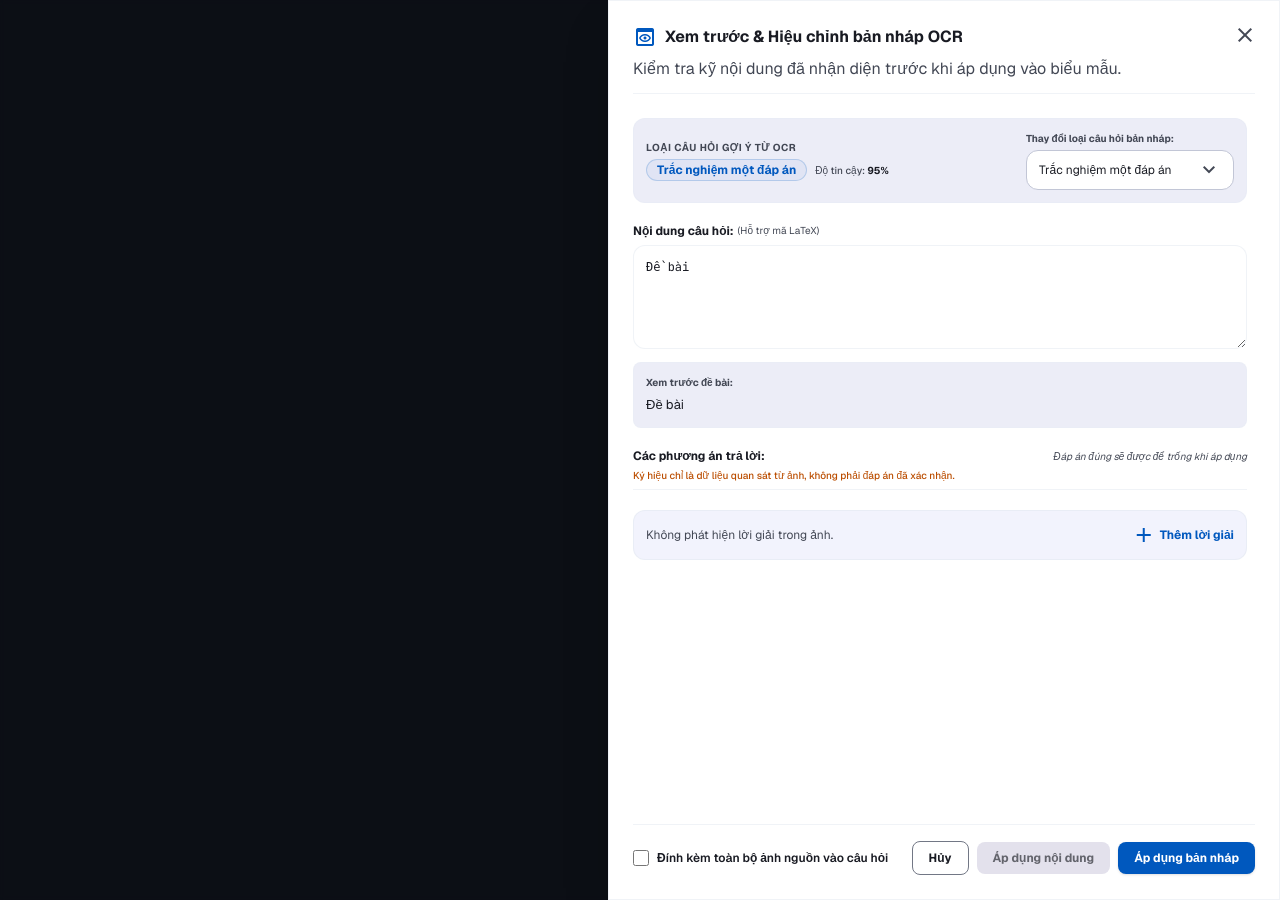
Test: QuestionOcrDraftReviewDialog - OCR Mark Untrusted Observations & Simplified Review › hides empty solution by default and reveals solution editor on "Thêm lời giải" click
expect the field with placeholder "Nhập hướng dẫn giải" is not shown: met
# Click "Thêm lời giải"
Click the button "Thêm lời giải". click: (1183, 535)
box: [1132,523,1234,547]
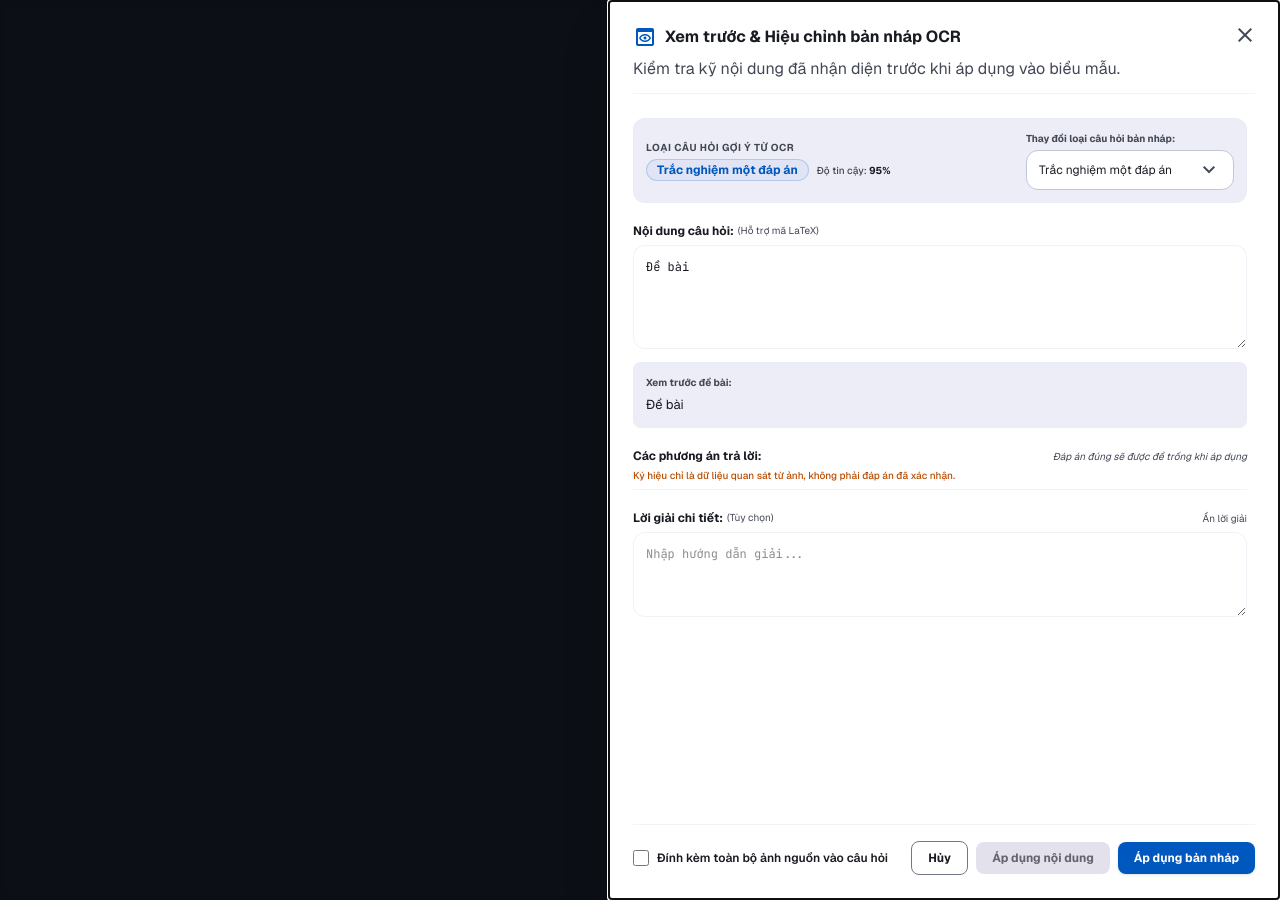
expect the text box with placeholder "Nhập hướng dẫn giải..." is shown: met, box [633,532,1247,617]
